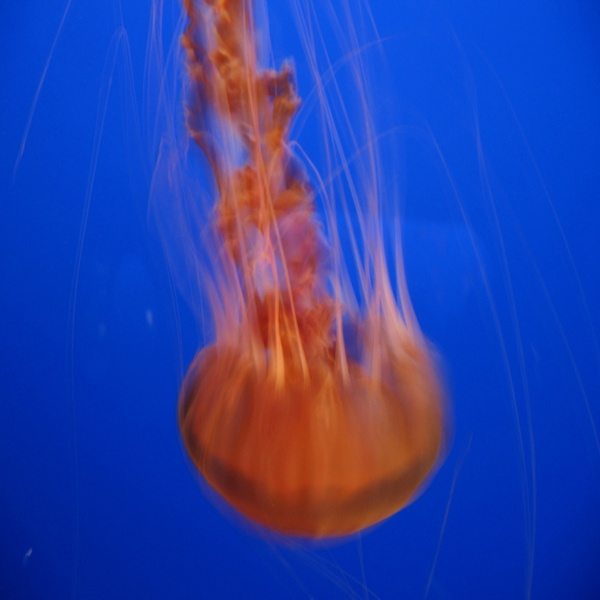Jellyfish: (8, 0, 599, 598)
